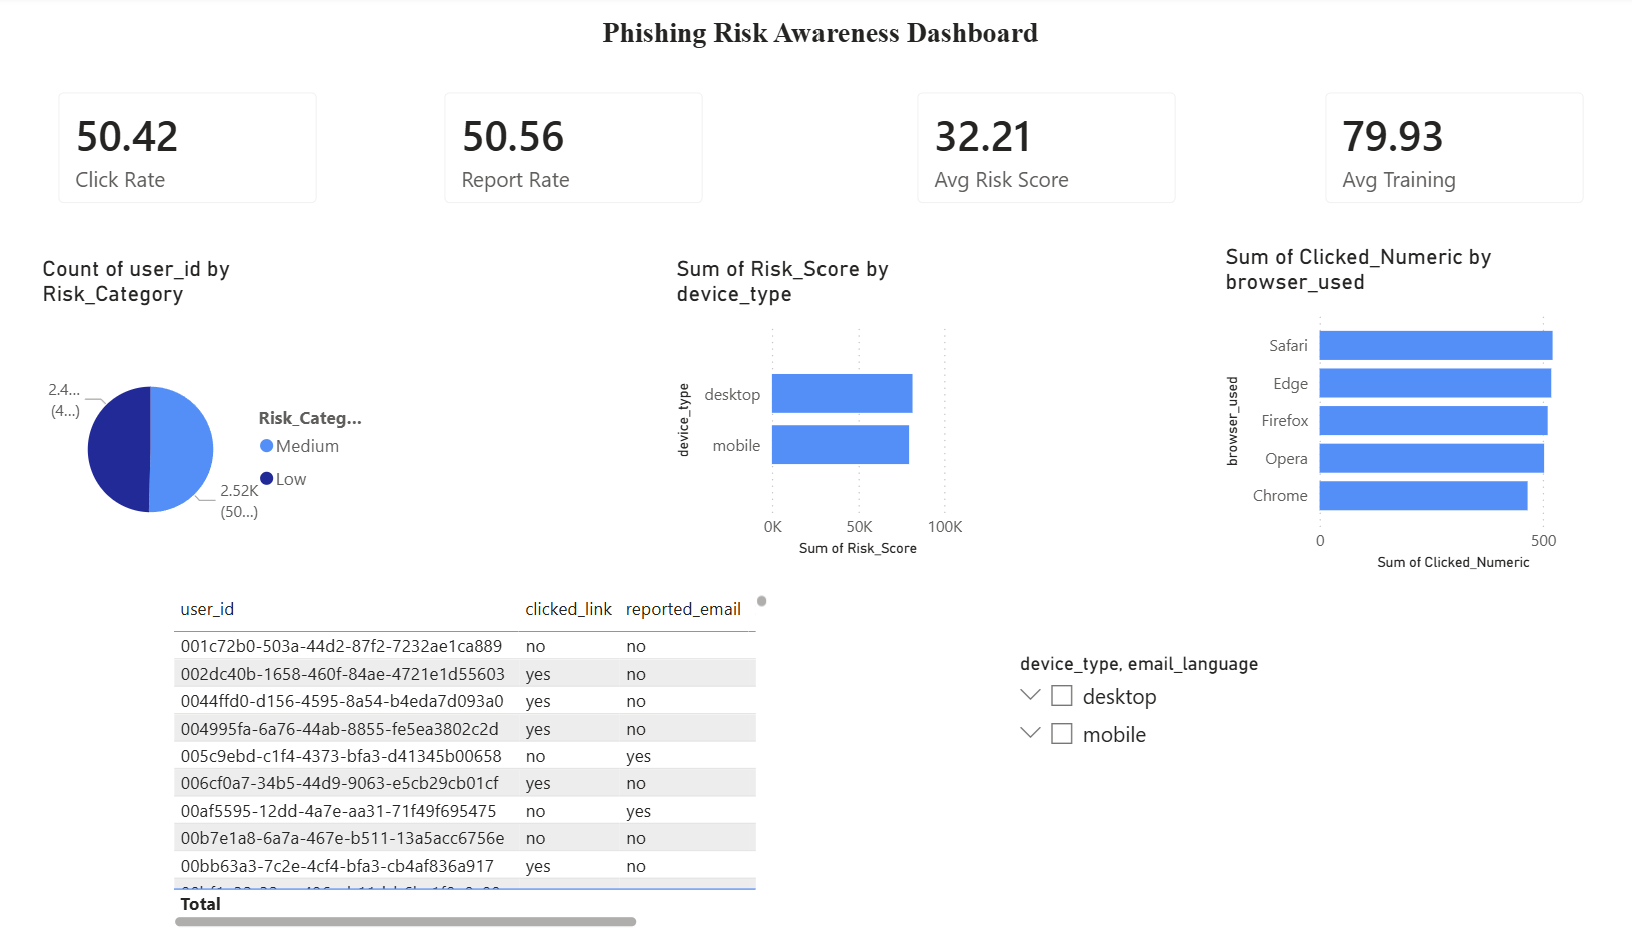

Layout of this report page (visuals, bound fields, positions):
{"tool":"powerbi","page":{"name":"Page 1","canvas":[1280,720],"ordinal":0},"visuals":[{"type":"pieChart","fields":{"Category":["phishing_awareness_dataset.Risk_Category"],"Y":["CountNonNull(phishing_awareness_dataset.user_id)"]},"box":[39.8,200.6,263.3,254.2],"z":0},{"type":"barChart","fields":{"Category":["phishing_awareness_dataset.device_type"],"Y":["Sum(phishing_awareness_dataset.Risk_Score)"]},"box":[525.2,200.6,228.1,234.3],"z":1000},{"type":"barChart","fields":{"Category":["phishing_awareness_dataset.browser_used"],"Y":["Sum(phishing_awareness_dataset.Clicked_Numeric)"]},"box":[944.7,191.4,297,254.2],"z":2000},{"type":"tableEx","fields":{"Values":["phishing_awareness_dataset.user_id","phishing_awareness_dataset.clicked_link","phishing_awareness_dataset.reported_email","Sum(phishing_awareness_dataset.Risk_Score)"]},"box":[139.3,454.7,465.5,264.9],"z":3000},{"type":"slicer","fields":{"Values":["phishing_awareness_dataset.device_type","phishing_awareness_dataset.email_language"]},"box":[779.3,499.1,370.5,179.1],"z":4000},{"type":"cardVisual","fields":{"Data":["phishing_awareness_dataset.Click Rate"]},"box":[39.8,58.2,232.7,119.4],"z":5000},{"type":"cardVisual","fields":{"Data":["phishing_awareness_dataset.Report Rate"]},"box":[335.3,58.2,232.7,119.4],"z":6000},{"type":"cardVisual","fields":{"Data":["phishing_awareness_dataset.Avg Risk Score"]},"box":[696.7,58.2,232.7,119.4],"z":7000},{"type":"cardVisual","fields":{"Data":["phishing_awareness_dataset.Avg Training"]},"box":[1009,58.2,232.7,119.4],"z":8000},{"type":"textbox","box":[468.5,12.2,343,45.9],"z":9000}]}

Visuals, with their boxes in screenshot pixels (x1, y1, x2, y2), scaled from the page's 1280x720 canvas onto the 1632x934 screenshot:
pieChart - phishing_awareness_dataset.Risk_Category x CountNonNull(phishing_awareness_dataset.user_id): BBox(51, 260, 386, 590)
barChart - phishing_awareness_dataset.device_type x Sum(phishing_awareness_dataset.Risk_Score): BBox(670, 260, 960, 564)
barChart - phishing_awareness_dataset.browser_used x Sum(phishing_awareness_dataset.Clicked_Numeric): BBox(1204, 248, 1583, 578)
tableEx - phishing_awareness_dataset.user_id x phishing_awareness_dataset.clicked_link: BBox(178, 590, 771, 933)
slicer - phishing_awareness_dataset.device_type x phishing_awareness_dataset.email_language: BBox(994, 647, 1466, 880)
cardVisual - phishing_awareness_dataset.Click Rate: BBox(51, 75, 347, 230)
cardVisual - phishing_awareness_dataset.Report Rate: BBox(428, 75, 724, 230)
cardVisual - phishing_awareness_dataset.Avg Risk Score: BBox(888, 75, 1185, 230)
cardVisual - phishing_awareness_dataset.Avg Training: BBox(1286, 75, 1583, 230)
textbox: BBox(597, 16, 1035, 75)
